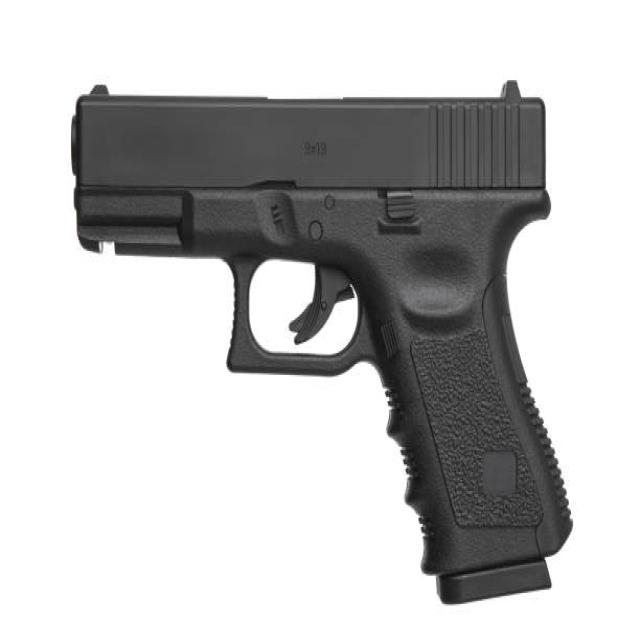pistol: (67, 66, 578, 615)
